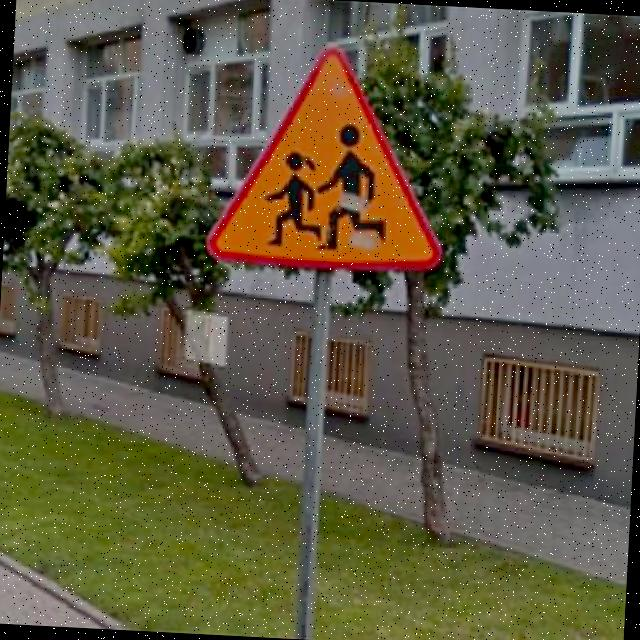Dzieci: (203, 38, 454, 276)
